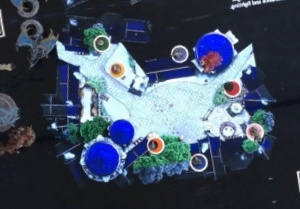blue: (187, 148, 211, 173)
green: (92, 31, 112, 54)
orange: (141, 133, 169, 157)
pink: (243, 119, 268, 146)
red: (222, 77, 244, 100)
violet: (168, 40, 192, 65)
yellow: (104, 59, 128, 80)
